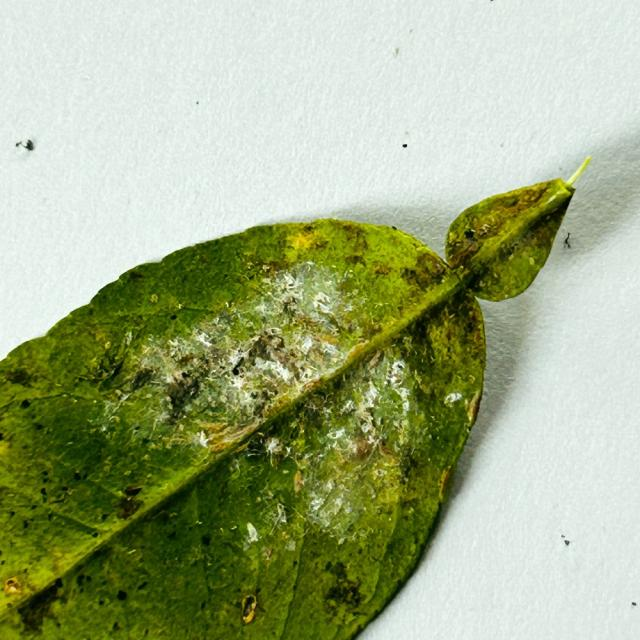Bacterial_Blight: (420, 310, 477, 393), (23, 466, 88, 522), (239, 328, 298, 381), (335, 411, 385, 467), (326, 564, 366, 611), (79, 344, 125, 384), (163, 372, 201, 416), (293, 400, 329, 438), (411, 251, 447, 285), (19, 597, 52, 633), (239, 590, 266, 626), (126, 364, 156, 393), (323, 559, 353, 584), (4, 365, 36, 387), (117, 495, 143, 520), (344, 253, 366, 267), (465, 319, 478, 334), (128, 270, 146, 280)
Lemon: (0, 179, 576, 639)
